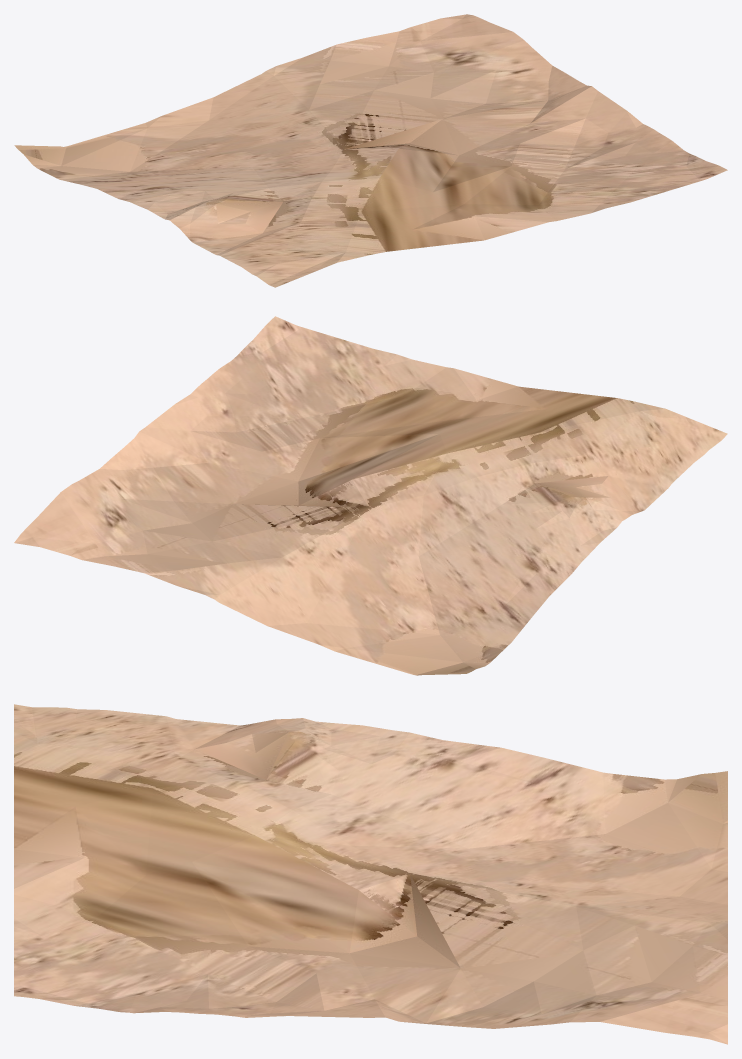
3 views of the same model, one above another, from view 1: azimuth 30°, elevation 25°; view 2: azimuth 150°, elevation 25°; view 3: azimuth 270°, elevation 25° (orthographic). The views are drawn at different scales.
Size of the model in its own units: 1.04 by 0.1605 by 1.04.
2 materials, 2 textured.
